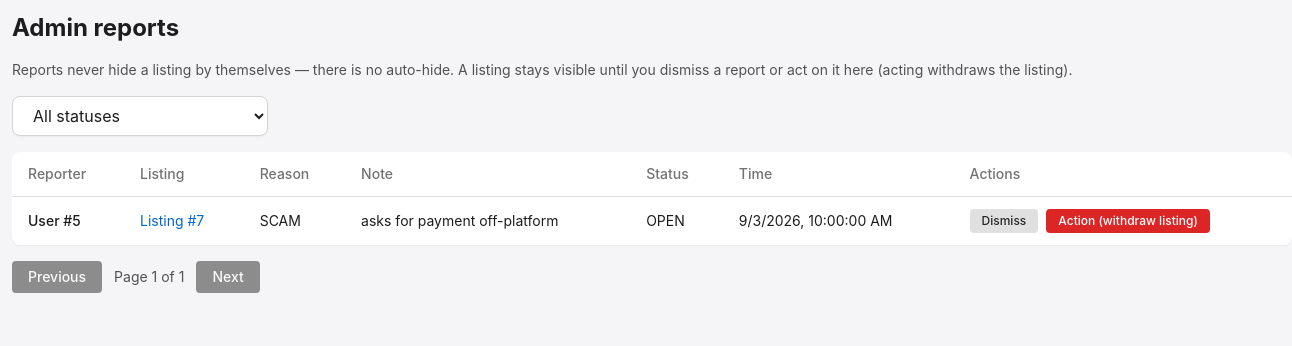
AdminReportsPage › a 422 on a transition maps to friendly copy
Expected: the cell "SCAM" is shown, [244,196,345,245]
Click the button "Dismiss" at (1004, 221), box [970,209,1038,233]
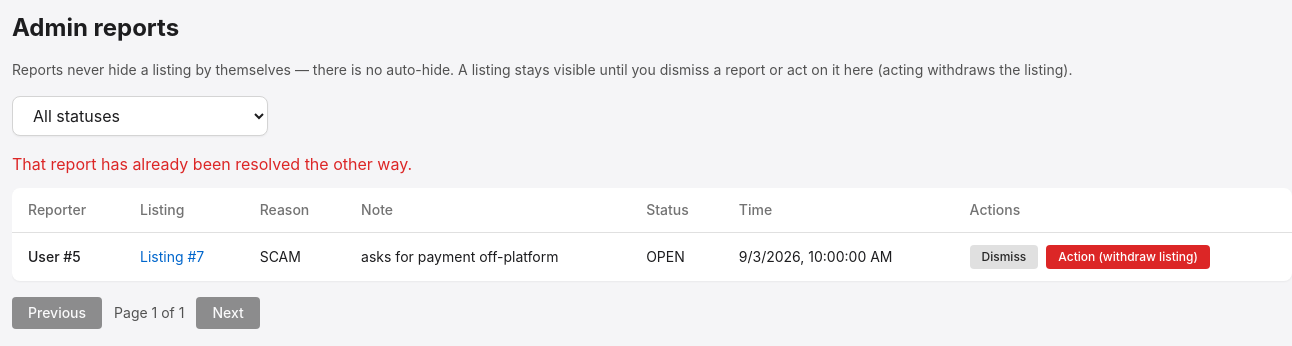
Now the message reads "That report has already been resolved the other way.", box [12,154,412,174]
